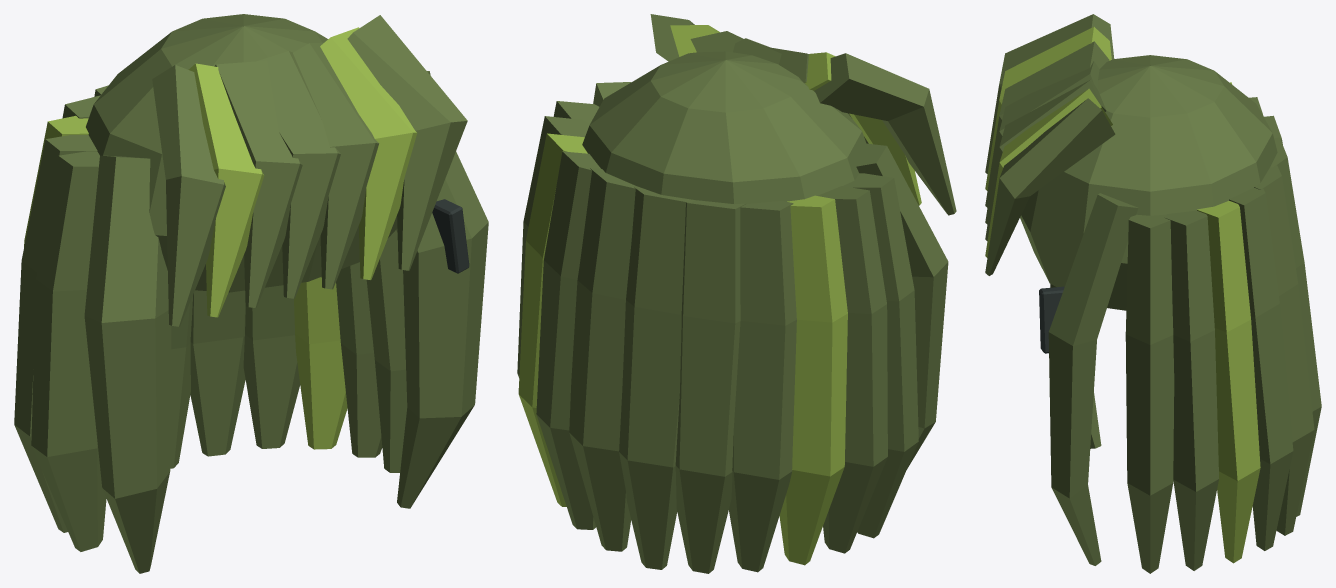
The picture shows the model from 3 angles, left to right: view 1: azimuth 30°, elevation 25°; view 2: azimuth 150°, elevation 25°; view 3: azimuth 270°, elevation 25°; orthographic projection. The views are drawn at different scales.
Visible parts, largest first — view 1: Mecha lateral, Mecha longa.010, Mecha lateral.001, Copa facetada, Mecha da franja, Mecha da franja.006, Mecha da franja.002, Mecha da franja.003, Mecha da franja.005, Mecha da franja.004, Mecha da franja.001, Mecha longa.004 (+8 smaller); view 2: Copa facetada, Mecha longa.006, Mecha longa.005, Mecha longa.007, Mecha longa.008, Mecha longa.004, Mecha longa.009, Mecha longa.003, Mecha longa.010, Mecha da franja, Mecha lateral, Mecha longa.002 (+8 smaller); view 3: Copa facetada, Mecha longa, Mecha lateral.001, Mecha longa.001, Mecha longa.002, Mecha longa.003, Mecha longa.004, Mecha da franja.006, Mecha longa.005, Mecha da franja.002, Mecha da franja.001, Mecha da franja (+4 smaller).
Part boxes in pixels (x1=…): Mecha lateral: x1=84, y1=155, x2=171, y2=573; Mecha longa.010: x1=31, y1=151, x2=106, y2=551; Mecha lateral.001: x1=396, y1=151, x2=488, y2=508; Copa facetada: x1=86, y1=14, x2=397, y2=292; Mecha da franja: x1=152, y1=65, x2=225, y2=326; Mecha da franja.006: x1=347, y1=15, x2=467, y2=270; Mecha da franja.002: x1=214, y1=60, x2=302, y2=307; Mecha da franja.003: x1=257, y1=51, x2=340, y2=298; Mecha da franja.005: x1=320, y1=27, x2=417, y2=279; Mecha da franja.004: x1=293, y1=42, x2=379, y2=289; Mecha da franja.001: x1=188, y1=63, x2=264, y2=317; Mecha longa.004: x1=190, y1=290, x2=245, y2=456; Copa facetada: x1=582, y1=51, x2=866, y2=204; Mecha longa.006: x1=675, y1=200, x2=745, y2=573; Mecha longa.005: x1=619, y1=185, x2=694, y2=569; Mecha longa.007: x1=729, y1=201, x2=796, y2=572; Mecha longa.008: x1=779, y1=195, x2=847, y2=565; Mecha longa.004: x1=569, y1=168, x2=635, y2=551; Mecha longa.009: x1=818, y1=186, x2=887, y2=553; Mecha longa.003: x1=536, y1=151, x2=600, y2=529; Mecha longa.010: x1=843, y1=173, x2=918, y2=538; Mecha da franja: x1=814, y1=53, x2=956, y2=215; Mecha lateral: x1=856, y1=143, x2=948, y2=468; Mecha longa.002: x1=518, y1=133, x2=587, y2=506; Copa facetada: x1=1020, y1=55, x2=1277, y2=310; Mecha longa: x1=1125, y1=214, x2=1174, y2=573; Mecha lateral.001: x1=1048, y1=193, x2=1138, y2=565; Mecha longa.001: x1=1165, y1=210, x2=1218, y2=570; Mecha longa.002: x1=1197, y1=201, x2=1260, y2=563; Mecha longa.003: x1=1229, y1=187, x2=1293, y2=550; Mecha longa.004: x1=1254, y1=165, x2=1314, y2=535; Mecha da franja.006: x1=985, y1=98, x2=1115, y2=275; Mecha longa.005: x1=1270, y1=137, x2=1321, y2=516; Mecha da franja.002: x1=985, y1=41, x2=1109, y2=207; Mecha da franja.001: x1=985, y1=27, x2=1111, y2=190; Mecha da franja: x1=985, y1=14, x2=1114, y2=173.
Size of the model in its own units: 1.34 by 1.56 by 1.04.
